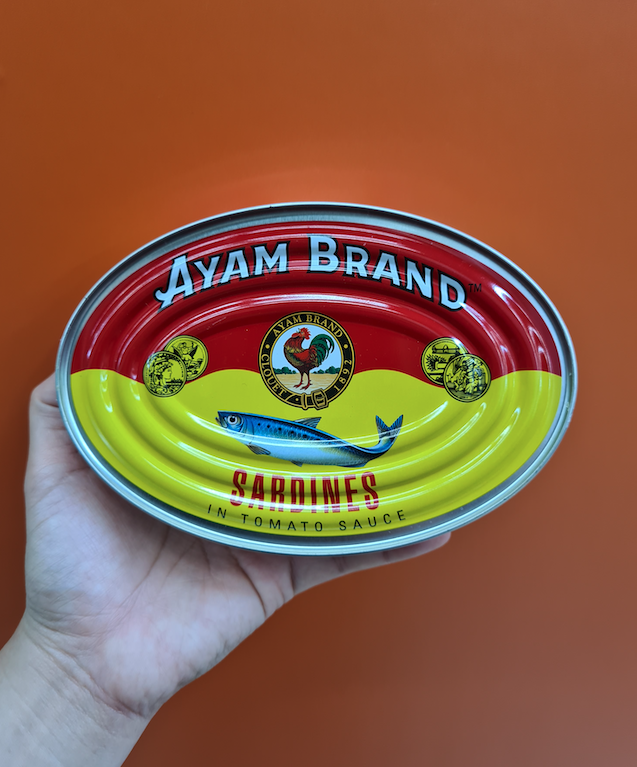Canned_Sardines_and_Mackerel: (114, 242, 510, 539)
